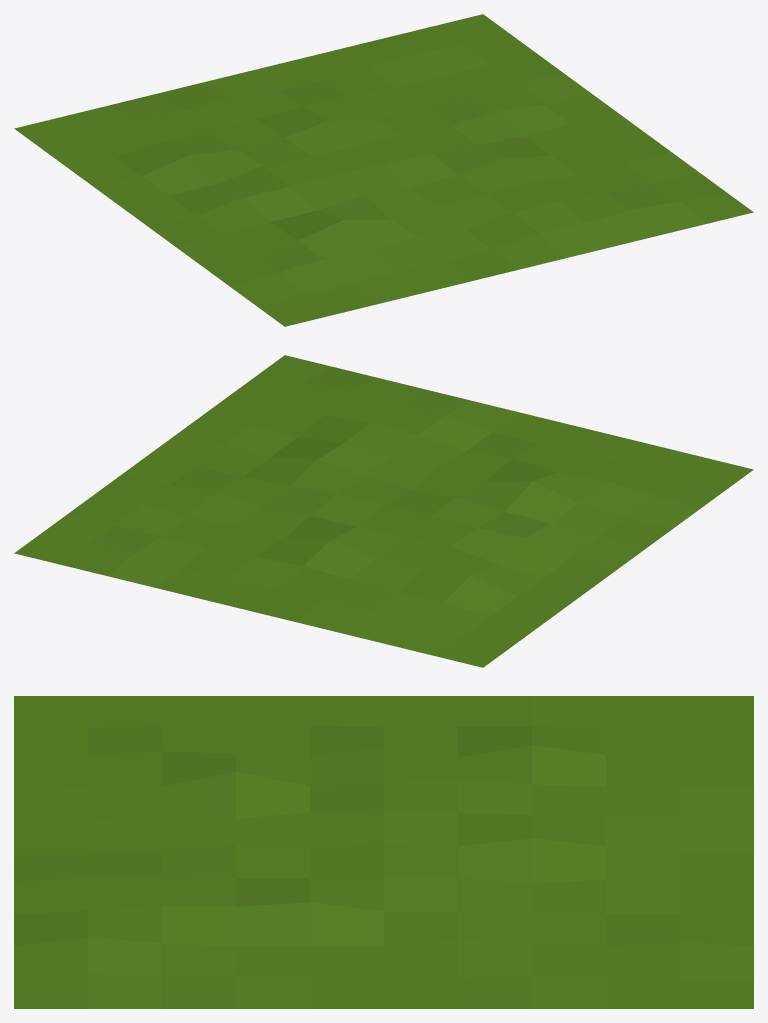
Rendered from grass-tile.glb.
3 views of the same model, one above another, from view 1: azimuth 30°, elevation 25°; view 2: azimuth 150°, elevation 25°; view 3: azimuth 270°, elevation 25° (orthographic). The views are drawn at different scales.
Parts seen in each view (by area): view 1: Grid; view 2: Grid; view 3: Grid.
Boxes of the visible parts, x1=… form: Grid: x1=14, y1=14, x2=753, y2=326; Grid: x1=14, y1=355, x2=753, y2=667; Grid: x1=14, y1=696, x2=753, y2=1008.
Bounding box in the file's own units: 2 × 0.0547 × 2.
